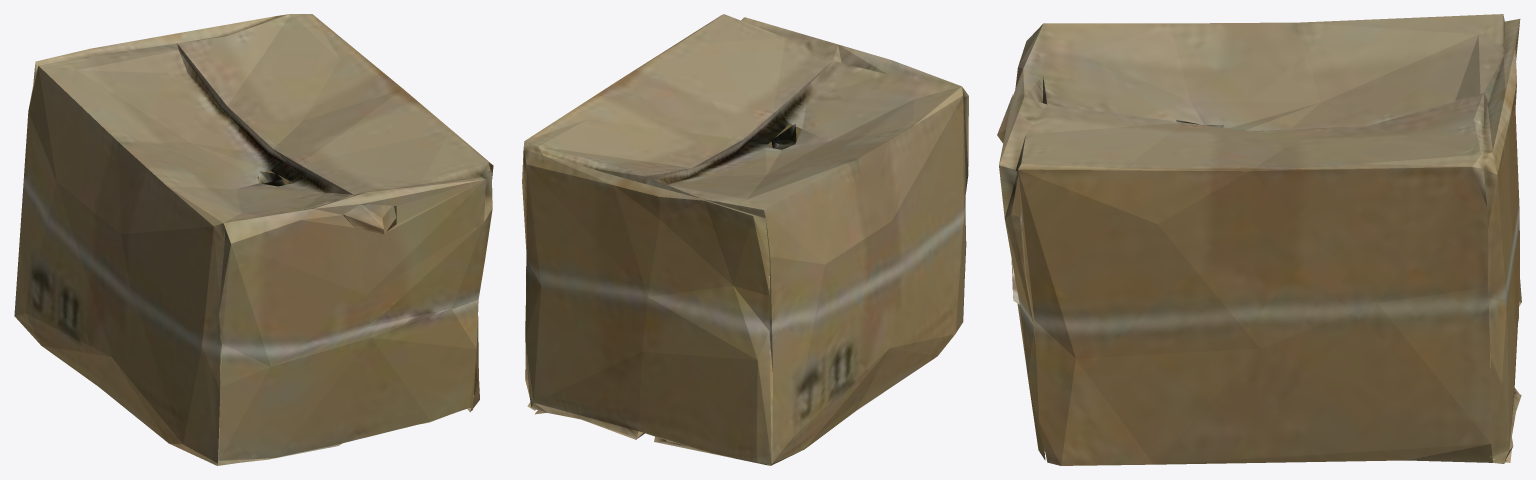
The model's file is cardboard_box_01.glb.
The picture shows the model from 3 angles, left to right: view 1: azimuth 30°, elevation 25°; view 2: azimuth 150°, elevation 25°; view 3: azimuth 270°, elevation 25°; orthographic projection. The views are drawn at different scales.
Parts seen in each view (by area): view 1: cardboard_box_01; view 2: cardboard_box_01; view 3: cardboard_box_01.
Boxes of the visible parts, x1,y1,x2,y2 form: cardboard_box_01: (14, 14, 493, 465); cardboard_box_01: (522, 14, 968, 465); cardboard_box_01: (997, 14, 1521, 465).
Bounding box in the file's own units: 0.3873 × 0.3403 × 0.5155.
1 material, 1 textured.
